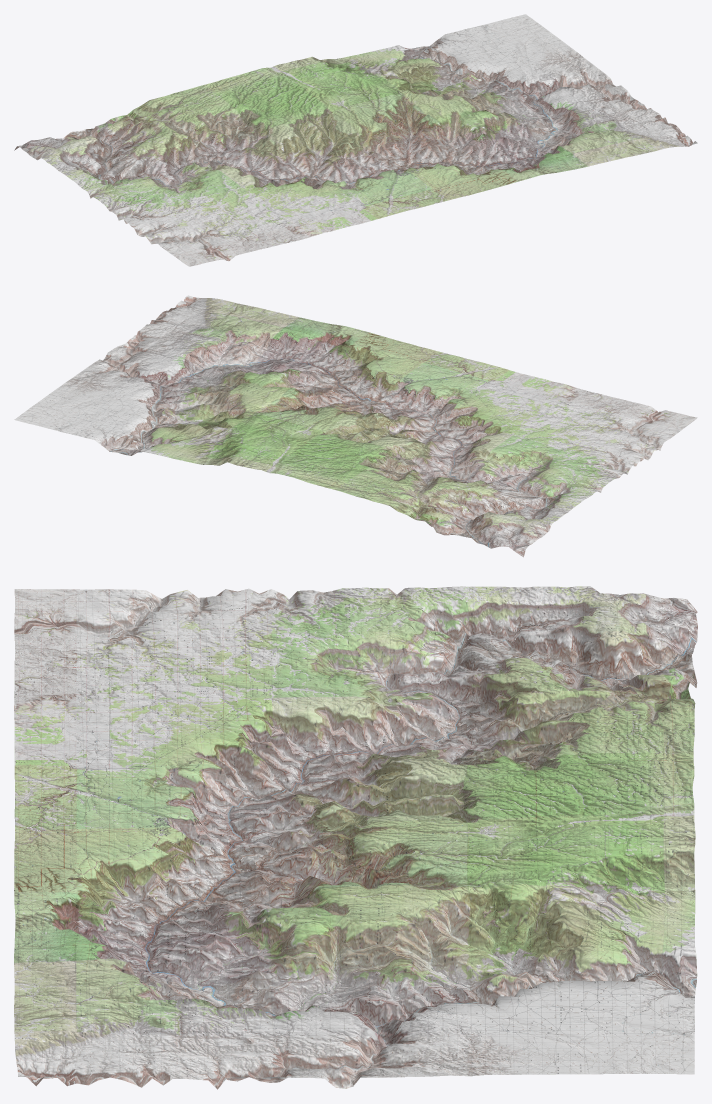
File: grand_canyon_3d_topo_map_with_terrain_lines.glb
The picture shows the model from 3 angles, top to bottom: view 1: azimuth 30°, elevation 25°; view 2: azimuth 150°, elevation 25°; view 3: azimuth 270°, elevation 25°; orthographic projection. The views are drawn at different scales.
Visible parts, largest first — view 1: skfb_offset; view 2: skfb_offset; view 3: skfb_offset.
Part boxes in pixels (x1,y1,x2,y2): skfb_offset: (14, 14, 697, 266); skfb_offset: (14, 295, 697, 557); skfb_offset: (14, 586, 697, 1089).
Size of the model in its own units: 102082 by 4360 by 60288.
1 material, 1 textured.
